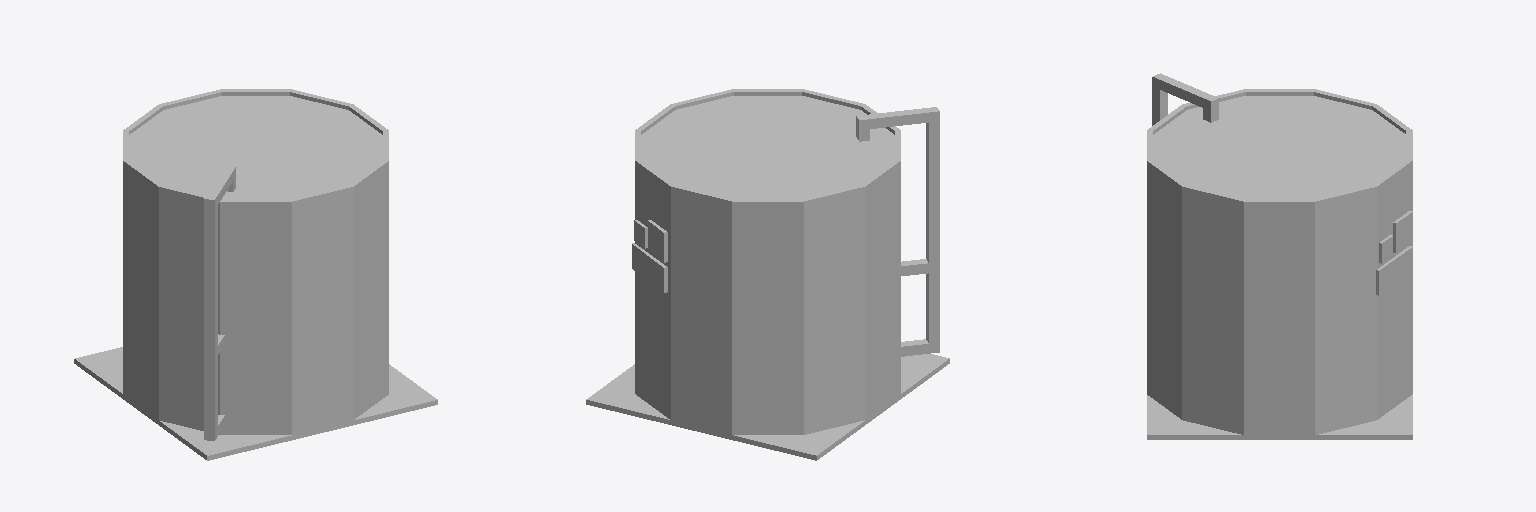
File: fbr.obj
3 renders of one model, left to right at view 1: azimuth 30°, elevation 25°; view 2: azimuth 150°, elevation 25°; view 3: azimuth 270°, elevation 25°, orthographic.
Parts seen in each view (by area): view 1: tube, circle, cube; view 2: tube, circle, cube; view 3: tube, circle, cube.
Part boxes in pixels (left/top/right/bottom): tube: left=123, top=89, right=388, bottom=436; circle: left=129, top=96, right=382, bottom=198; cube: left=74, top=165, right=437, bottom=460; tube: left=635, top=89, right=900, bottom=437; circle: left=641, top=96, right=894, bottom=198; cube: left=586, top=107, right=949, bottom=460; tube: left=1147, top=89, right=1412, bottom=437; circle: left=1153, top=96, right=1405, bottom=198; cube: left=1147, top=73, right=1412, bottom=439.
Size of the model in its own units: 3 by 3.19 by 3.01.